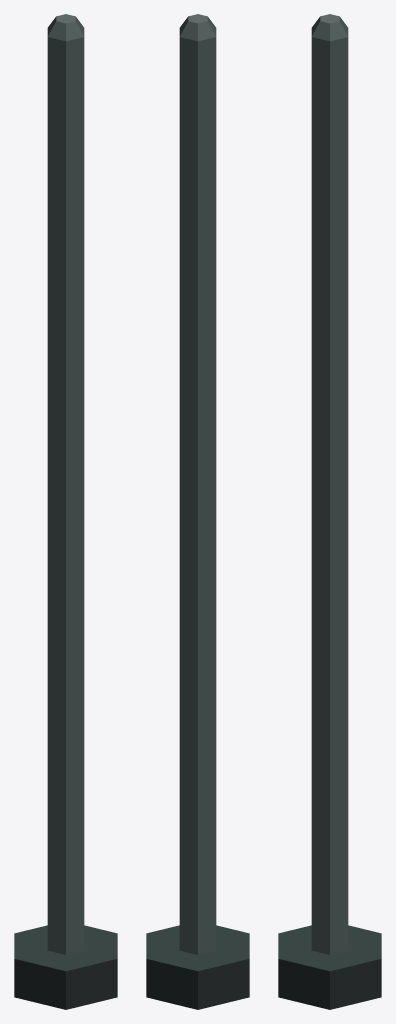
File: TB_CITY_Prop_TrafficLight_Base_I_B.FBX
The picture shows the model from 3 angles, left to right: view 1: azimuth 30°, elevation 25°; view 2: azimuth 210°, elevation 25°; view 3: azimuth 330°, elevation 25°; orthographic projection.
Parts seen in each view (by area): view 1: TB_CITY_Prop_TrafficLight_Base_I_B; view 2: TB_CITY_Prop_TrafficLight_Base_I_B; view 3: TB_CITY_Prop_TrafficLight_Base_I_B.
Part boxes in pixels (left/top/right/bottom): TB_CITY_Prop_TrafficLight_Base_I_B: left=14, top=14, right=117, bottom=1009; TB_CITY_Prop_TrafficLight_Base_I_B: left=146, top=14, right=249, bottom=1009; TB_CITY_Prop_TrafficLight_Base_I_B: left=278, top=14, right=381, bottom=1009.
Size of the model in its own units: 0.8444 by 7.53 by 0.7313.
